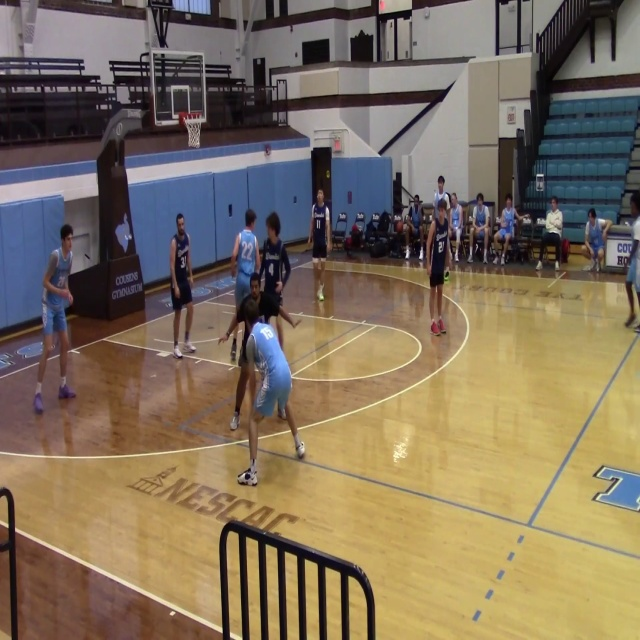Basketball: (369, 240, 387, 258), (65, 292, 74, 306), (443, 270, 450, 280)
